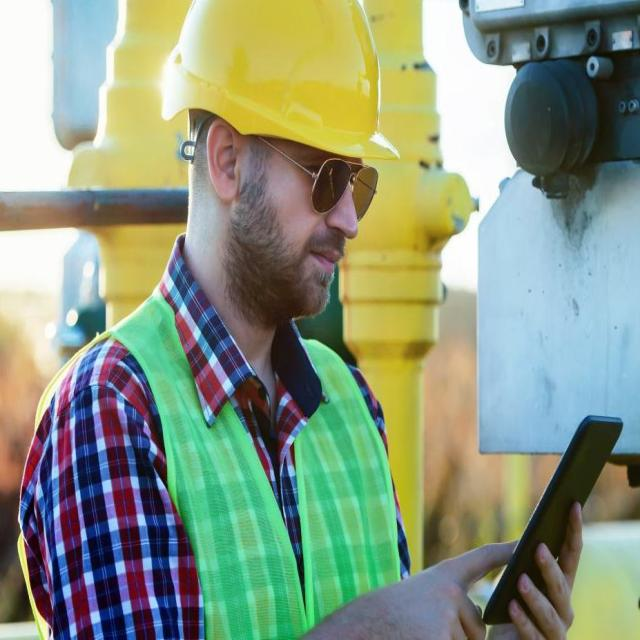goggles: (252, 132, 402, 249)
helmet: (156, 0, 403, 167)
vest: (126, 298, 387, 640)
